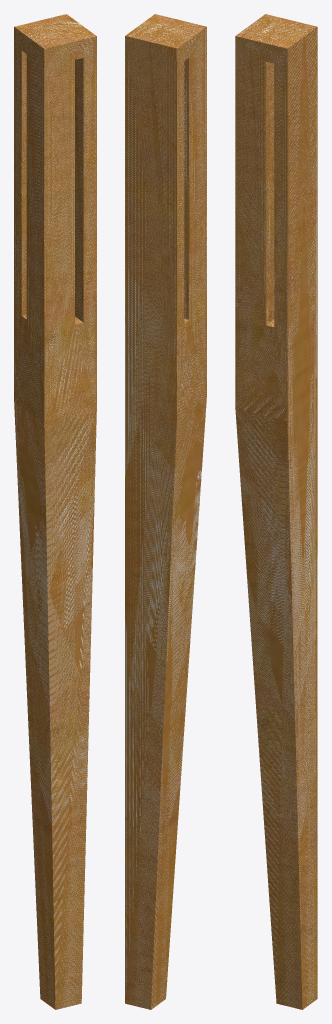
File: original-16.obj
The picture shows the model from 3 angles, left to right: view 1: azimuth 30°, elevation 25°; view 2: azimuth 150°, elevation 25°; view 3: azimuth 330°, elevation 25°; orthographic projection.
Parts seen in each view (by area): view 1: Right_Back_Leg/Back_Leg/mesh13/mesh13-geometry#mesh13-geometry; view 2: Right_Back_Leg/Back_Leg/mesh13/mesh13-geometry#mesh13-geometry; view 3: Right_Back_Leg/Back_Leg/mesh13/mesh13-geometry#mesh13-geometry.
Boxes of the visible parts, bbox=[...] form: Right_Back_Leg/Back_Leg/mesh13/mesh13-geometry#mesh13-geometry: bbox=[14, 14, 96, 1009]; Right_Back_Leg/Back_Leg/mesh13/mesh13-geometry#mesh13-geometry: bbox=[125, 14, 206, 1009]; Right_Back_Leg/Back_Leg/mesh13/mesh13-geometry#mesh13-geometry: bbox=[235, 14, 317, 1009].
Size of the model in its own units: 0.0601 by 1.07 by 0.0601.
